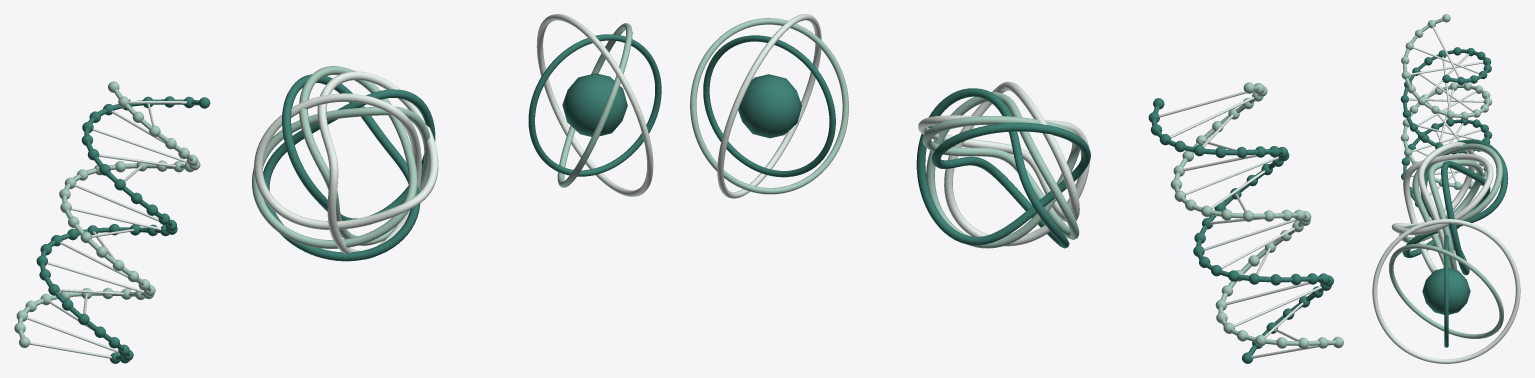
File: bionexus-research.glb
The picture shows the model from 3 angles, left to right: view 1: azimuth 30°, elevation 25°; view 2: azimuth 150°, elevation 25°; view 3: azimuth 270°, elevation 25°; orthographic projection. The views are drawn at different scales.
Visible parts, largest first — view 1: Analysis, Input, Evidence; view 2: Analysis, Input, Evidence; view 3: Analysis, Evidence, Input.
Part boxes in pixels (x1,y1,x2,y2): Analysis: [252, 66, 438, 261]; Input: [14, 81, 210, 363]; Evidence: [528, 14, 661, 196]; Analysis: [916, 81, 1090, 248]; Input: [1148, 82, 1343, 363]; Evidence: [690, 14, 848, 198]; Analysis: [1391, 139, 1508, 275]; Evidence: [1372, 219, 1520, 363]; Input: [1400, 14, 1492, 218].
Size of the model in its own units: 14.69 by 6.17 by 3.99.
